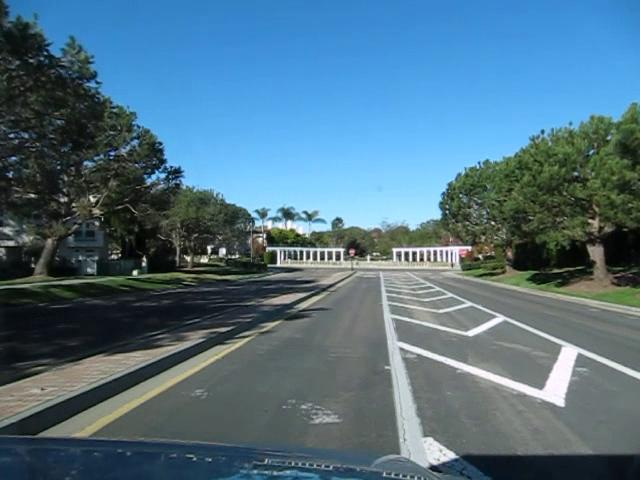stop: (458, 247, 467, 256)
